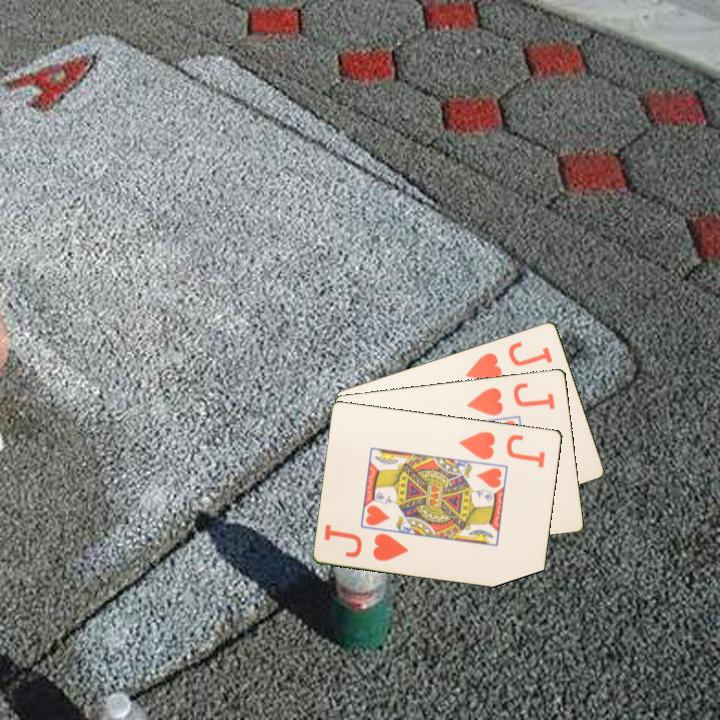Jh: (462, 338, 556, 384), (455, 428, 549, 470), (463, 379, 558, 418), (369, 529, 412, 564)
